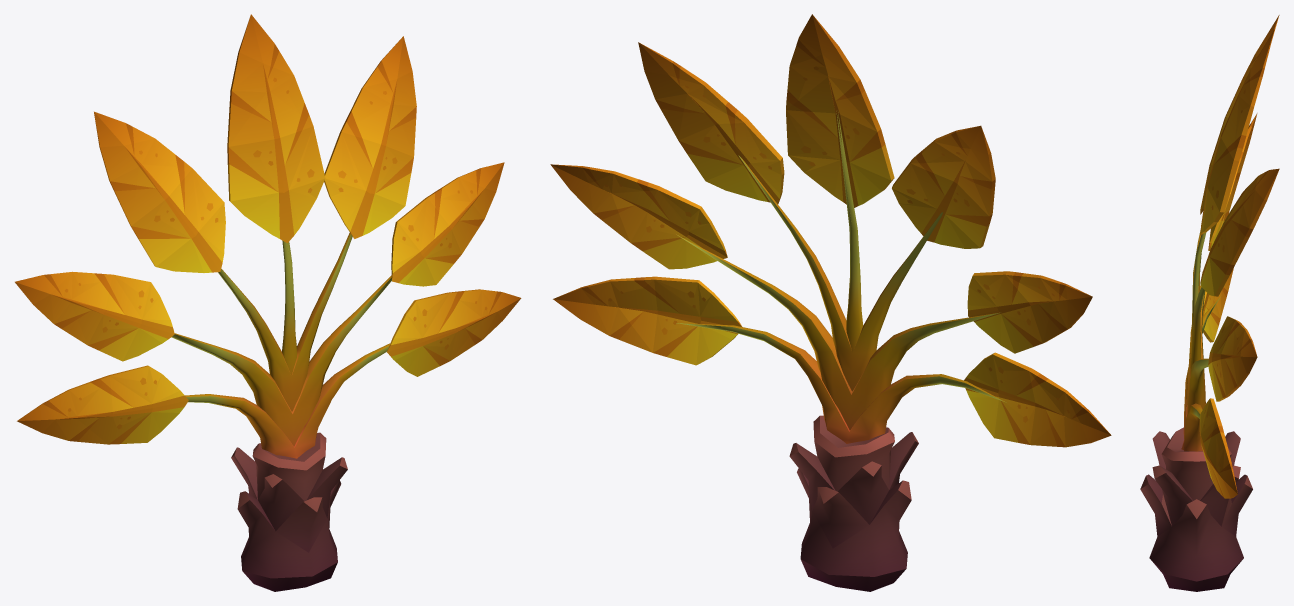
Rendered from banana3.glb.
3 renders of one model, left to right at view 1: azimuth 30°, elevation 25°; view 2: azimuth 150°, elevation 25°; view 3: azimuth 270°, elevation 25°, orthographic. The views are drawn at different scales.
Parts seen in each view (by area): view 1: banana3; view 2: banana3; view 3: banana3.
Part boxes in pixels (left/top/right/bottom): banana3: left=15, top=14, right=521, bottom=591; banana3: left=550, top=14, right=1111, bottom=591; banana3: left=1140, top=15, right=1279, bottom=591.
Bounding box in the file's own units: 5.16 × 5.21 × 1.21.
1 material, 1 textured.
